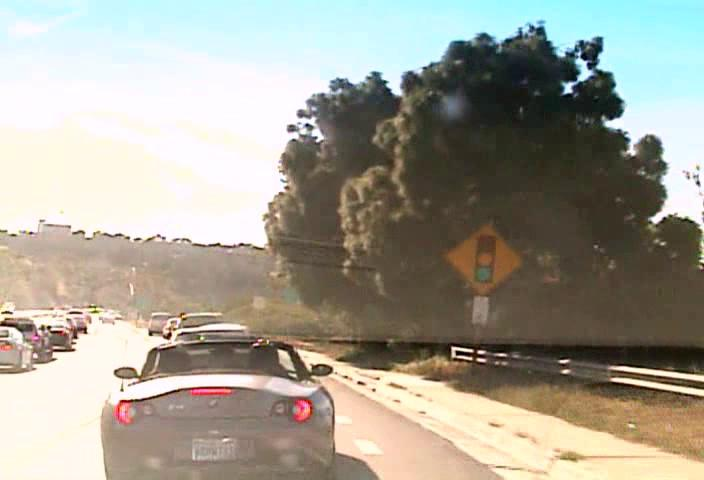signalAhead: (445, 220, 522, 294)
